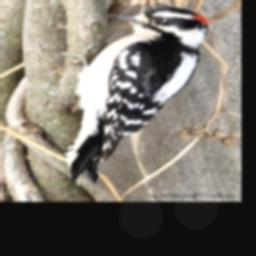Woodpecker: (62, 5, 209, 183)
